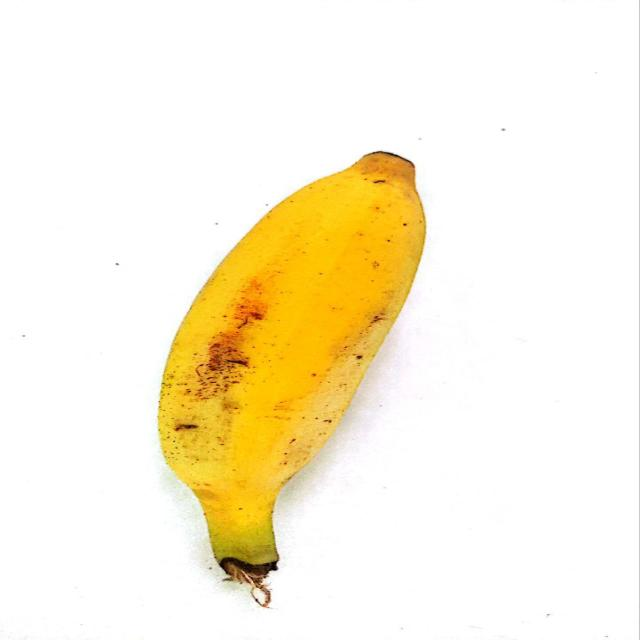fresh_banana: (167, 159, 418, 531)
